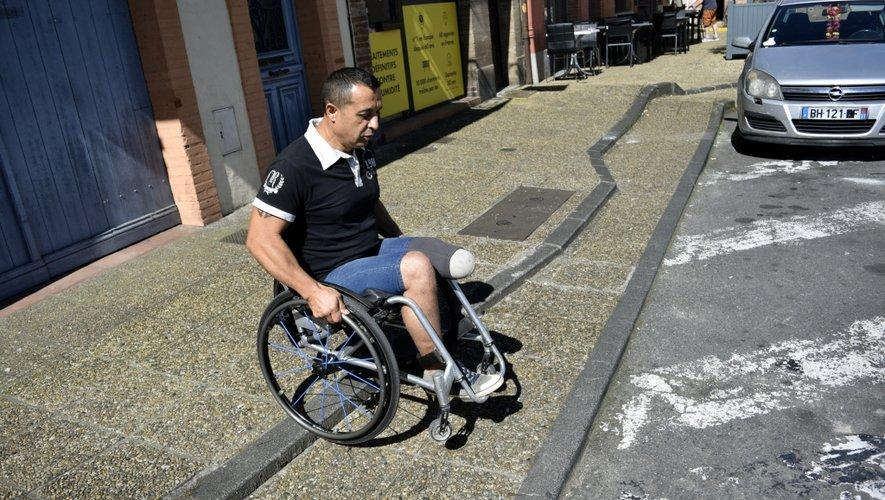wheelchair: (246, 66, 507, 447)
